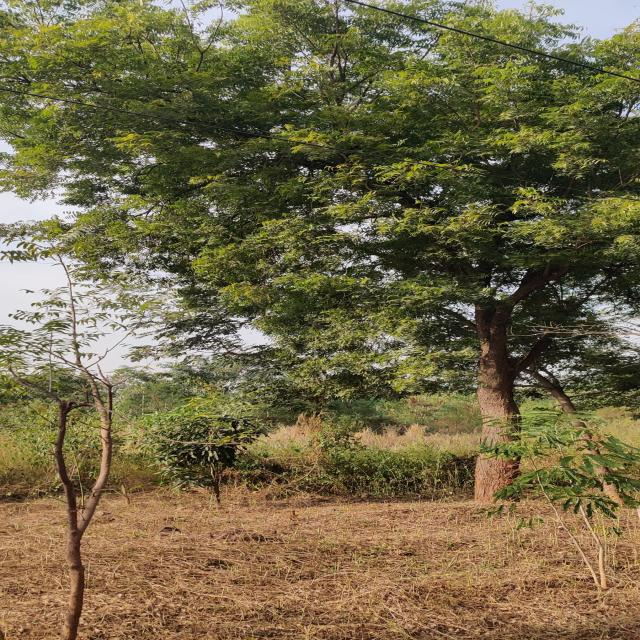Neem Tree: (1, 1, 640, 360)
